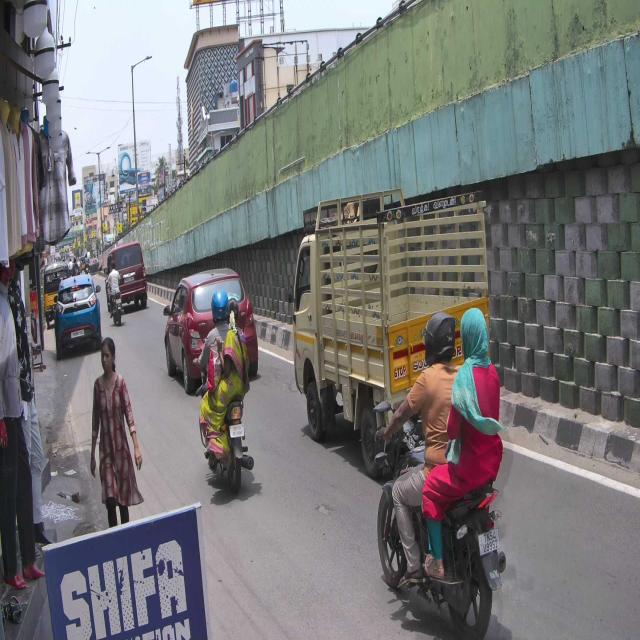double_rider: (375, 307, 509, 640), (191, 286, 254, 493)
